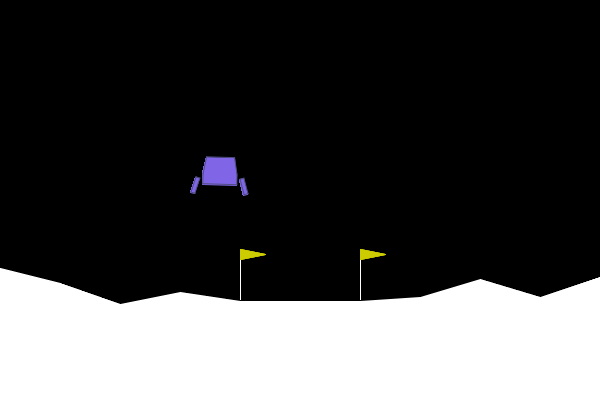lander: (189, 155, 250, 196)
